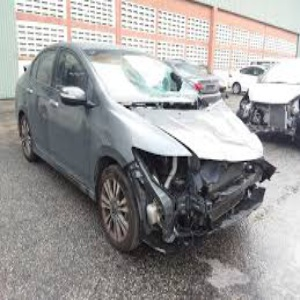bonnet: (181, 99, 263, 162)
bumper: (152, 170, 269, 241)
